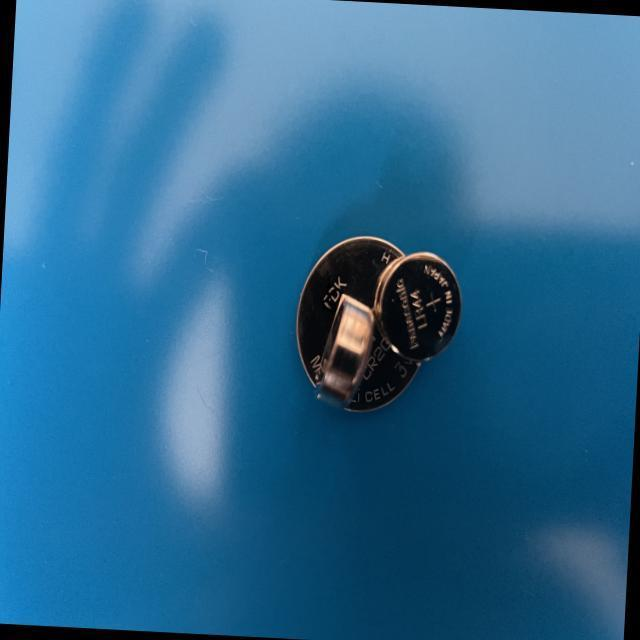COIN: (290, 229, 438, 418), (372, 250, 466, 366), (312, 286, 378, 421)
